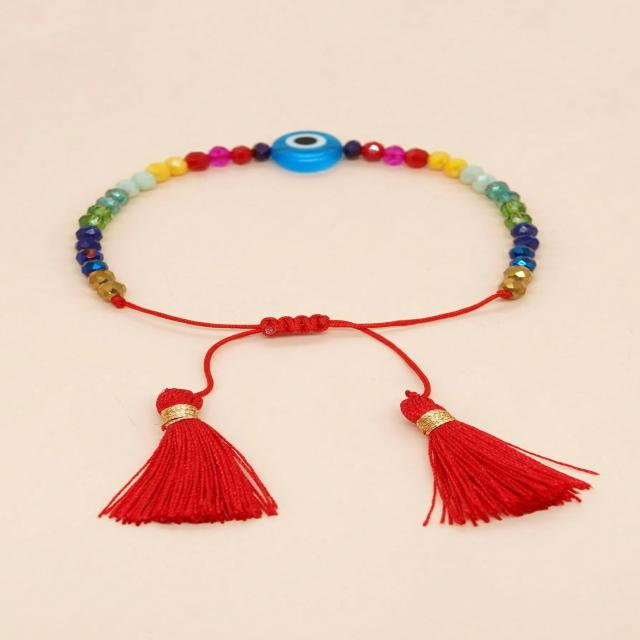bracelet: (34, 59, 640, 597)
